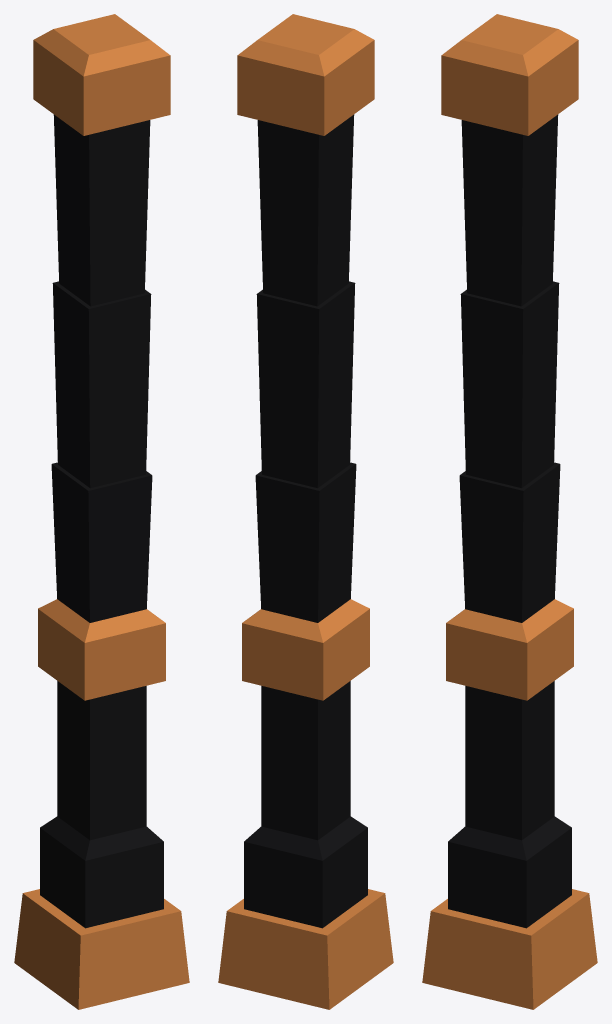
Rendered from pillar_2.FBX.
3 renders of one model, left to right at view 1: azimuth 30°, elevation 25°; view 2: azimuth 150°, elevation 25°; view 3: azimuth 330°, elevation 25°, orthographic.
Parts seen in each view (by area): view 1: pillar_2; view 2: pillar_2; view 3: pillar_2.
Boxes of the visible parts, x1,y1,x2,y2 form: pillar_2: [14, 14, 189, 1009]; pillar_2: [218, 14, 393, 1009]; pillar_2: [422, 14, 597, 1009].
Bounding box in the file's own units: 106 × 854 × 106.
